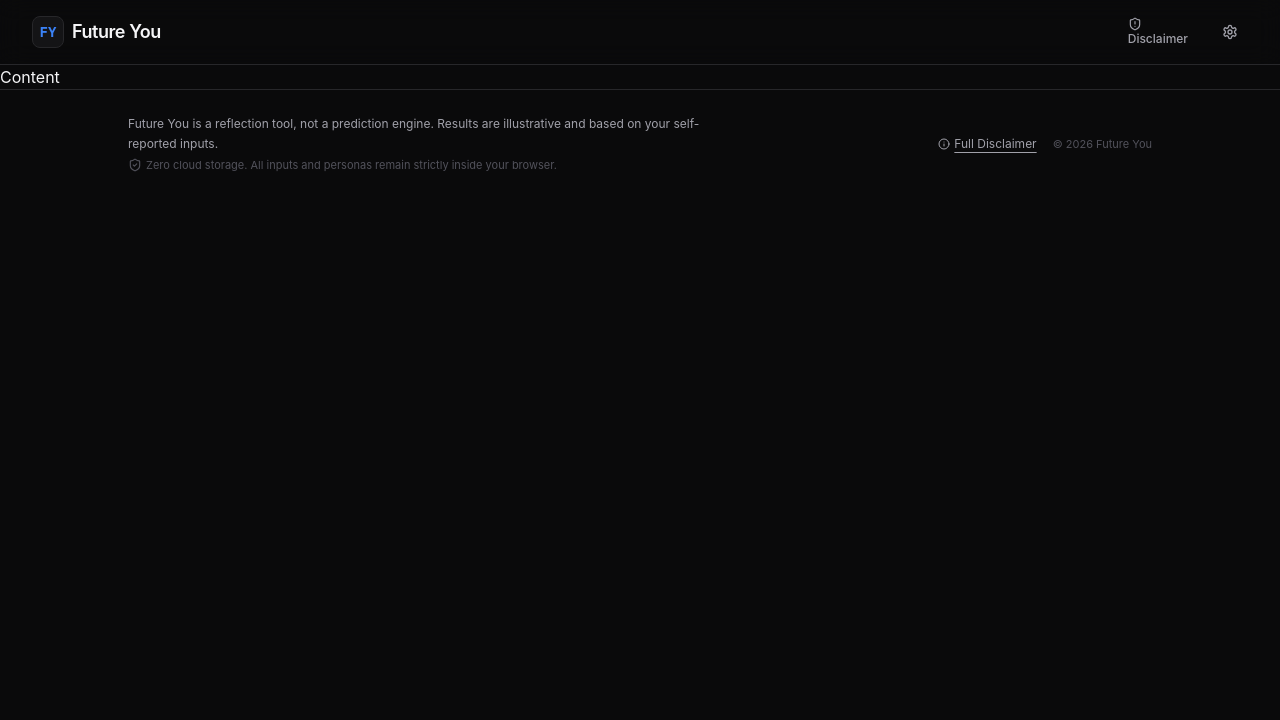
AppShell Layout Component › opens DisclaimerModal when footer disclaimer button is clicked
Click the button with aria-label "read full reflection disclaimer".
click(987, 144)  # box [938, 136, 1037, 152]
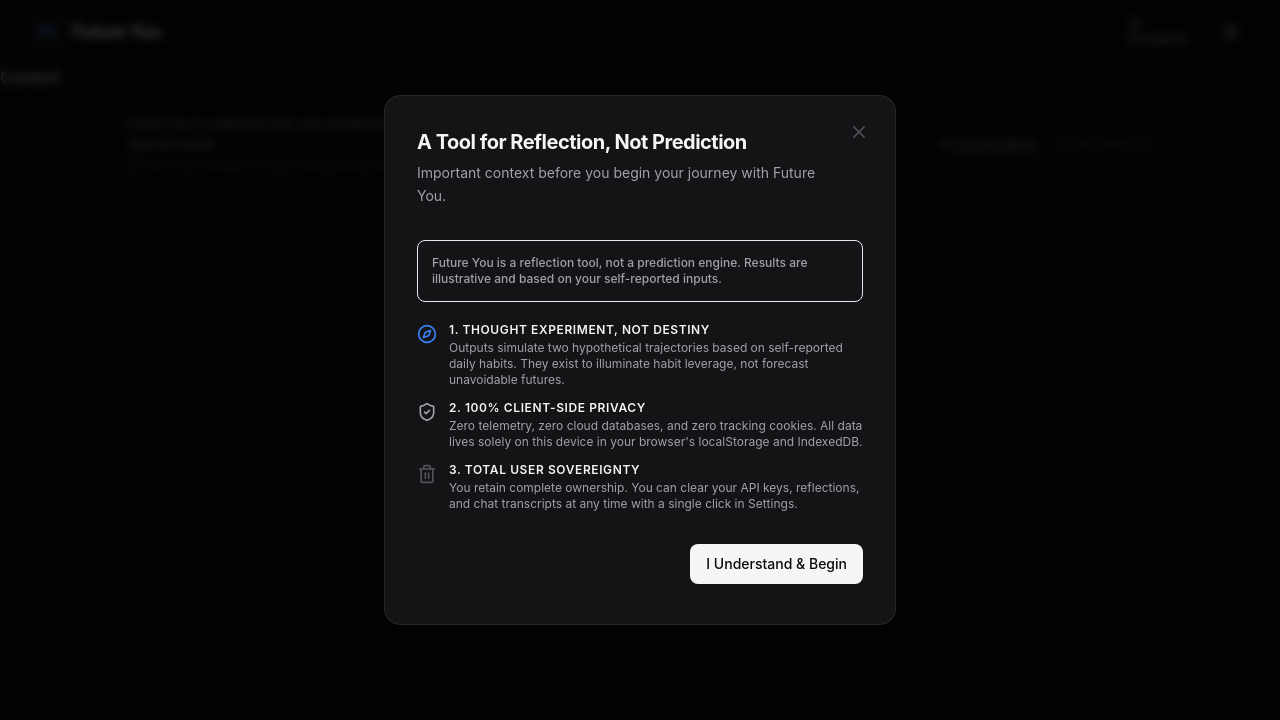
Result: the dialog is shown
Result: the heading "A Tool for Reflection, Not Prediction" is shown at [417, 130, 747, 154]
